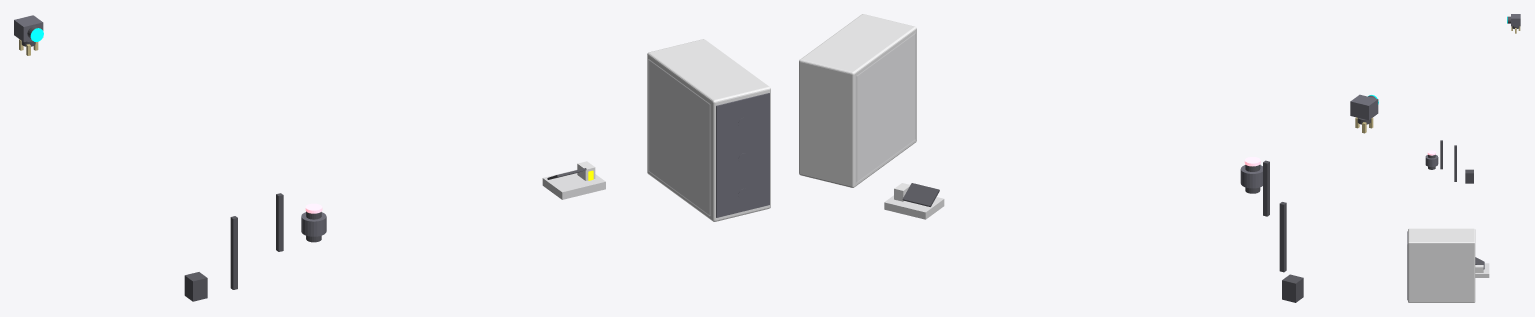
3 views of the same model, side by side, from view 1: azimuth 30°, elevation 25°; view 2: azimuth 150°, elevation 25°; view 3: azimuth 270°, elevation 25° (orthographic). The views are drawn at different scales.
Parts seen in each view (by area): view 1: pc_chassis_frame, pc_glass_side_panel, pc_front_mesh, zenith_pedestal, mic_desk_clamp, mic_arm_lower, mic_shockmount; view 2: pc_chassis_frame, pc_glass_side_panel, zenith_pedestal, ai_cam_chassis, zenith_solar_panel, mic_arm_lower, mic_desk_clamp, mic_shockmount, mic_arm_upper; view 3: pc_chassis_frame, mic_shockmount, zenith_pedestal, mic_desk_clamp, ai_cam_chassis, mic_arm_lower.
Boxes of the visible parts, left/top/right/bottom form: pc_chassis_frame: left=647, top=39, right=770, bottom=221; pc_glass_side_panel: left=648, top=59, right=710, bottom=215; pc_front_mesh: left=716, top=93, right=769, bottom=217; zenith_pedestal: left=542, top=169, right=605, bottom=199; mic_desk_clamp: left=184, top=272, right=207, bottom=301; mic_arm_lower: left=230, top=216, right=237, bottom=289; mic_shockmount: left=301, top=212, right=326, bottom=236; pc_chassis_frame: left=799, top=14, right=916, bottom=187; pc_glass_side_panel: left=856, top=33, right=915, bottom=182; zenith_pedestal: left=884, top=195, right=944, bottom=219; ai_cam_chassis: left=1350, top=94, right=1378, bottom=120; zenith_solar_panel: left=902, top=183, right=939, bottom=206; mic_arm_lower: left=1279, top=202, right=1286, bottom=272; mic_desk_clamp: left=1282, top=274, right=1303, bottom=302; mic_shockmount: left=1240, top=165, right=1262, bottom=188; mic_arm_upper: left=1263, top=160, right=1269, bottom=216; pc_chassis_frame: left=1408, top=228, right=1475, bottom=302; mic_shockmount: left=1425, top=155, right=1438, bottom=166; zenith_pedestal: left=1475, top=263, right=1489, bottom=277; mic_desk_clamp: left=1465, top=169, right=1473, bottom=183; ai_cam_chassis: left=1511, top=14, right=1520, bottom=26; mic_arm_lower: left=1454, top=145, right=1456, bottom=181.
Size of the model in its own units: 2.66 by 1.07 by 0.811.
